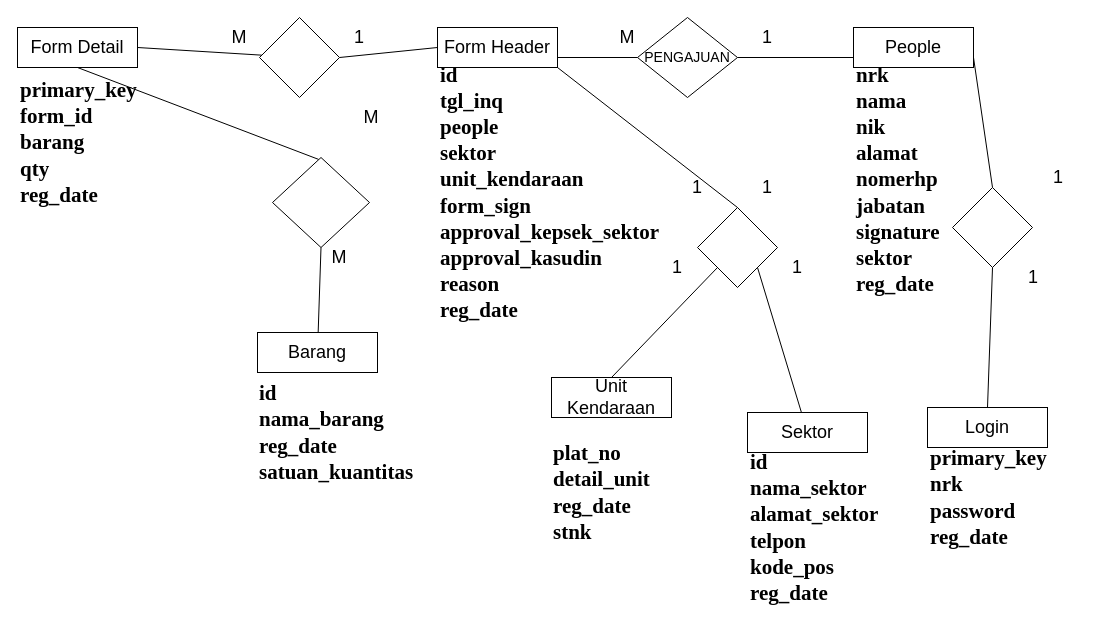
The diagram is 1096 pixels wide and 623 high, and some of its shapes have lost their labels. Here are the shapes that lost their labels. From the top down, the centre of each, then its label:
At pixel 299 57: "DETAIL".
At pixel 321 202: "DIPILIH".
At pixel 737 247: "PUNYA".
At pixel 992 227: "CEK".
